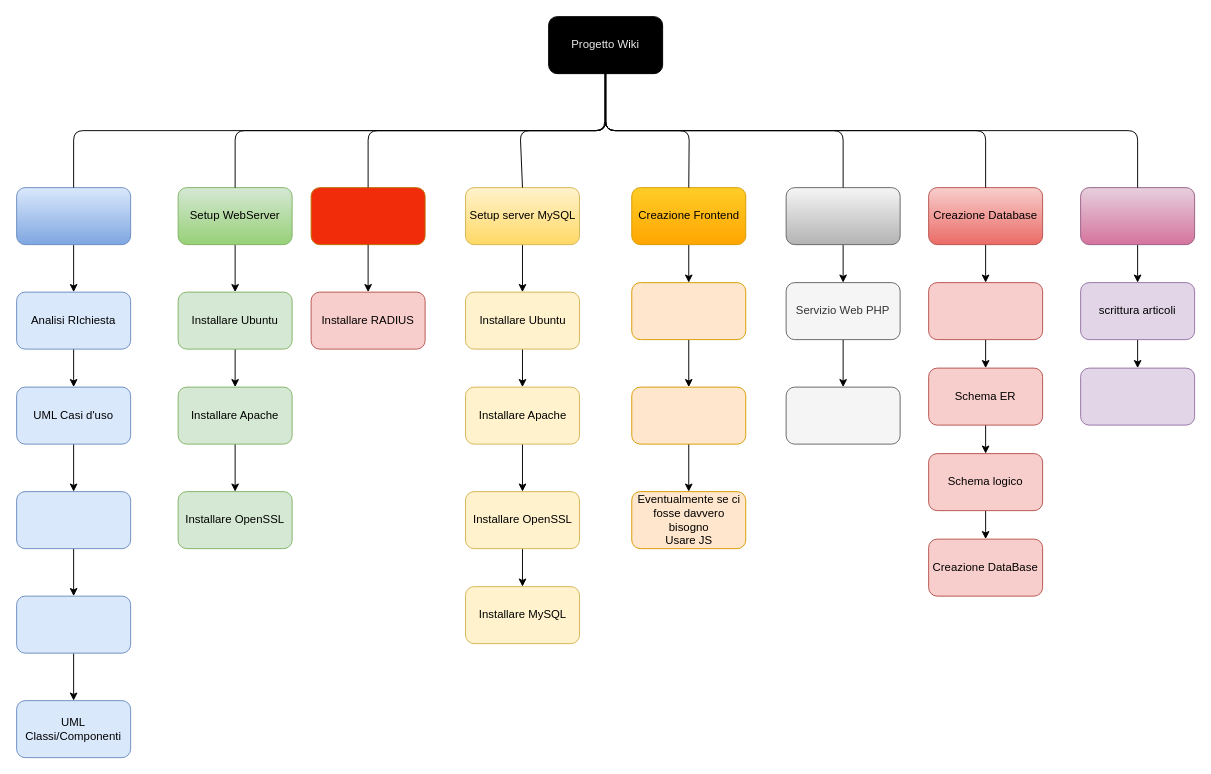
Some shapes in this 1211 by 774 pixel diagram are drawn without their labels. The box of each missing label's shape, as (x1, y1, x2, y2) in pixels:
Analisi & Doc: (16, 187, 131, 245)
Analisi dei dati da salvare: (928, 282, 1043, 340)
Creare CSS: (631, 282, 746, 340)
Creare pagine statiche: (631, 386, 746, 444)
Creazione Backend: (785, 187, 900, 245)
Documentazione: (16, 491, 131, 549)
Gestione Articoli: (1080, 187, 1195, 245)
Inserirli nel sito: (1080, 367, 1195, 425)
Integrazione con database: (785, 386, 900, 444)
Setup server Radius: (310, 187, 425, 245)
WireFrame & Storyboard: (16, 595, 131, 653)
